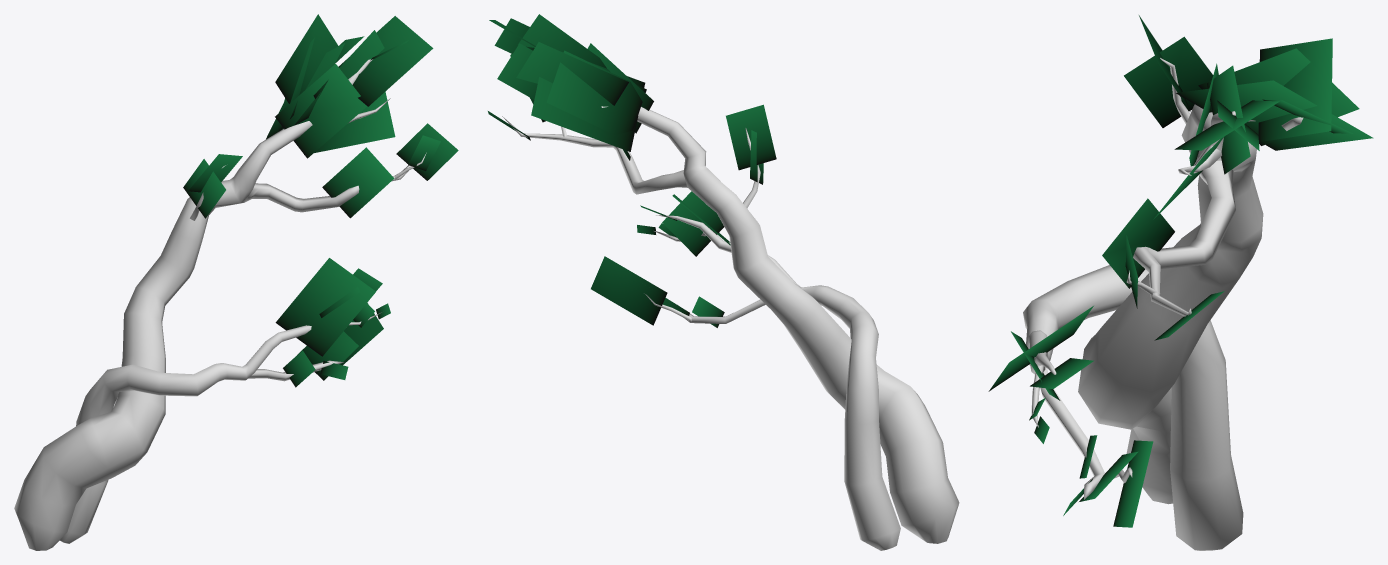
The model's file is SM_TreeWindsweptSapling02.fbx.
The picture shows the model from 3 angles, left to right: view 1: azimuth 30°, elevation 25°; view 2: azimuth 150°, elevation 25°; view 3: azimuth 270°, elevation 25°; orthographic projection. The views are drawn at different scales.
Visible parts, largest first — view 1: SM_TreeWindsweptSapling02_LOD0; view 2: SM_TreeWindsweptSapling02_LOD0; view 3: SM_TreeWindsweptSapling02_LOD0.
Part boxes in pixels (x1=…): SM_TreeWindsweptSapling02_LOD0: x1=14, y1=14, x2=458, y2=550; SM_TreeWindsweptSapling02_LOD0: x1=488, y1=14, x2=959, y2=550; SM_TreeWindsweptSapling02_LOD0: x1=988, y1=15, x2=1373, y2=550.
Bounding box in the file's own units: 767 × 721 × 333.
